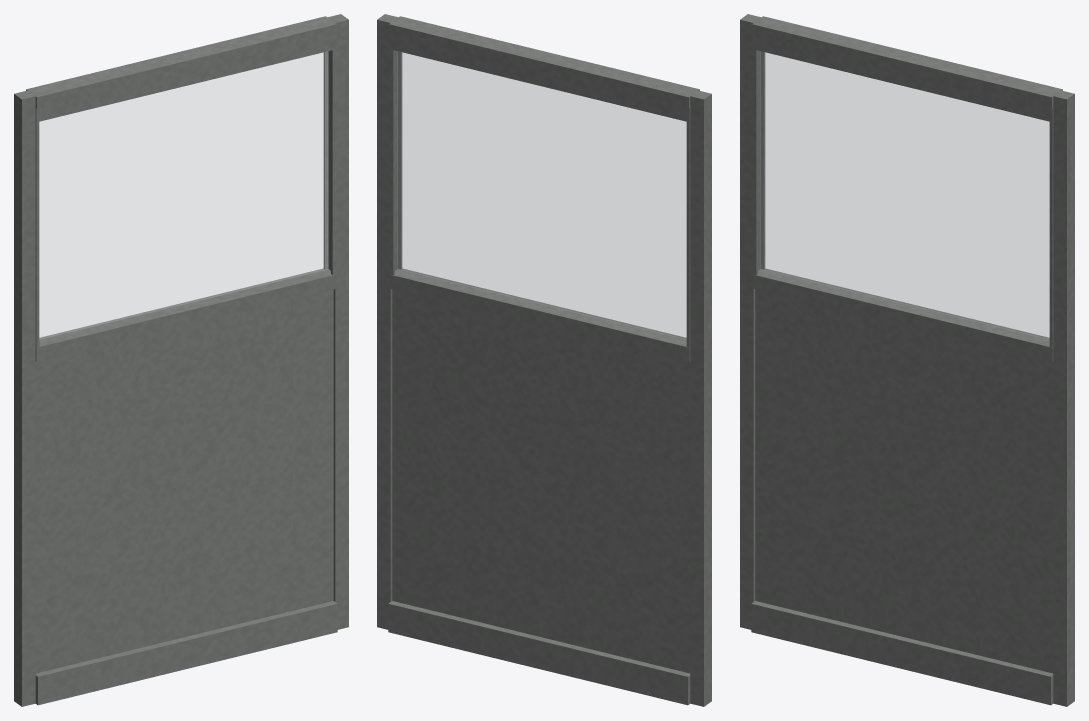
The model's file is X14_PART_Panel_Glazed_120.glb.
The picture shows the model from 3 angles, left to right: view 1: azimuth 30°, elevation 25°; view 2: azimuth 150°, elevation 25°; view 3: azimuth 330°, elevation 25°; orthographic projection.
Parts seen in each view (by area): view 1: X14_PART_Panel_Glazed_120_LOD0, X14_PART_Panel_Glazed_120_Glass_LOD0; view 2: X14_PART_Panel_Glazed_120_LOD0, X14_PART_Panel_Glazed_120_Glass_LOD0; view 3: X14_PART_Panel_Glazed_120_LOD0, X14_PART_Panel_Glazed_120_Glass_LOD0.
Part boxes in pixels (x1,y1,x2,y2): X14_PART_Panel_Glazed_120_LOD0: [14, 14, 348, 706]; X14_PART_Panel_Glazed_120_Glass_LOD0: [39, 51, 328, 339]; X14_PART_Panel_Glazed_120_LOD0: [377, 14, 711, 706]; X14_PART_Panel_Glazed_120_Glass_LOD0: [397, 51, 686, 339]; X14_PART_Panel_Glazed_120_LOD0: [740, 14, 1074, 706]; X14_PART_Panel_Glazed_120_Glass_LOD0: [760, 51, 1049, 339].
Size of what is drawn, in the model's own units: 1.2 by 2.13 by 0.08.
Materials: 2 (1 with a texture image).
